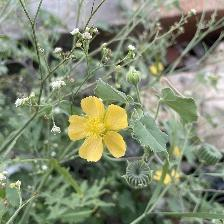indian mallow: (67, 96, 132, 164)
